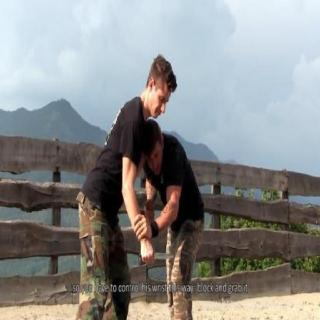knife: (138, 246, 176, 266)
